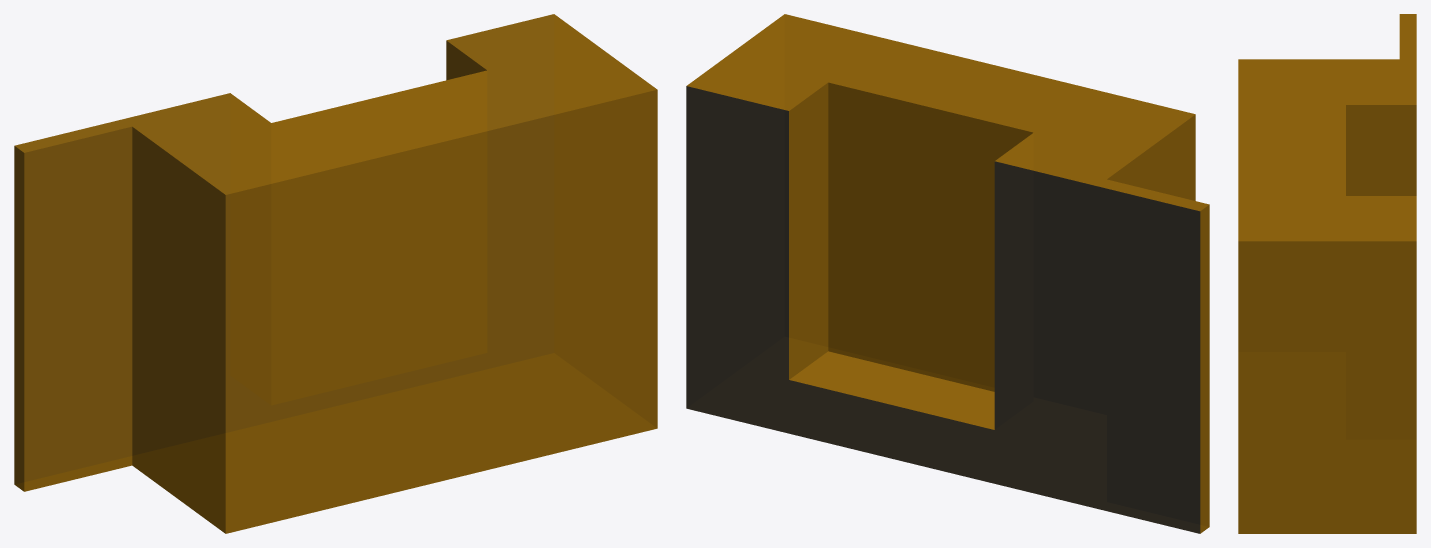
3 views of the same model, side by side, from view 1: azimuth 30°, elevation 25°; view 2: azimuth 150°, elevation 25°; view 3: azimuth 270°, elevation 25° (orthographic). The views are drawn at different scales.
Visible parts, largest first — view 1: group_0; view 2: group_0 (×2); view 3: group_0.
Boxes of the visible parts, x1,y1,x2,y2 form: group_0: (14,14,657,533); group_0 (×2): (686,14,1209,533); group_0: (1238,14,1416,533).
Bounding box in the file's own units: 1969 × 653 × 1181.
